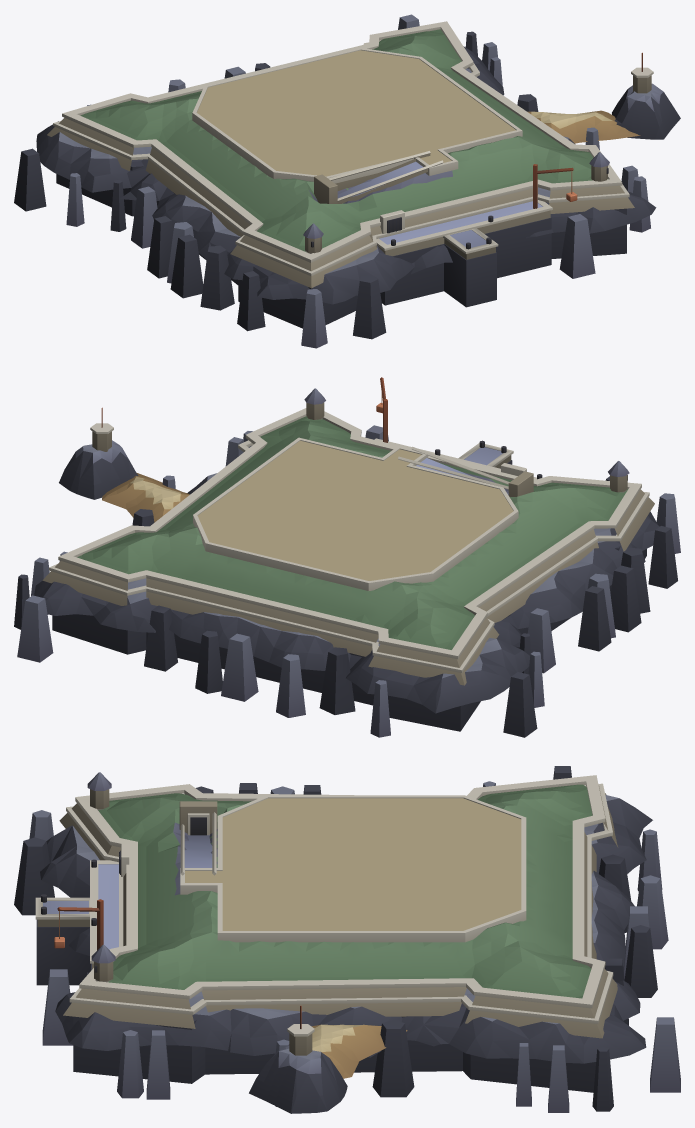
The model's file is fortress-body.glb.
The picture shows the model from 3 angles, top to bottom: view 1: azimuth 30°, elevation 25°; view 2: azimuth 150°, elevation 25°; view 3: azimuth 270°, elevation 25°; orthographic projection. The views are drawn at different scales.
Parts seen in each view (by area): view 1: body; view 2: body; view 3: body.
Part boxes in pixels (left/top/right/bottom): body: left=14, top=14, right=680, bottom=348; body: left=14, top=377, right=680, bottom=737; body: left=14, top=766, right=680, bottom=1113.
Size of the model in its own units: 37.35 by 6.9 by 31.92.
